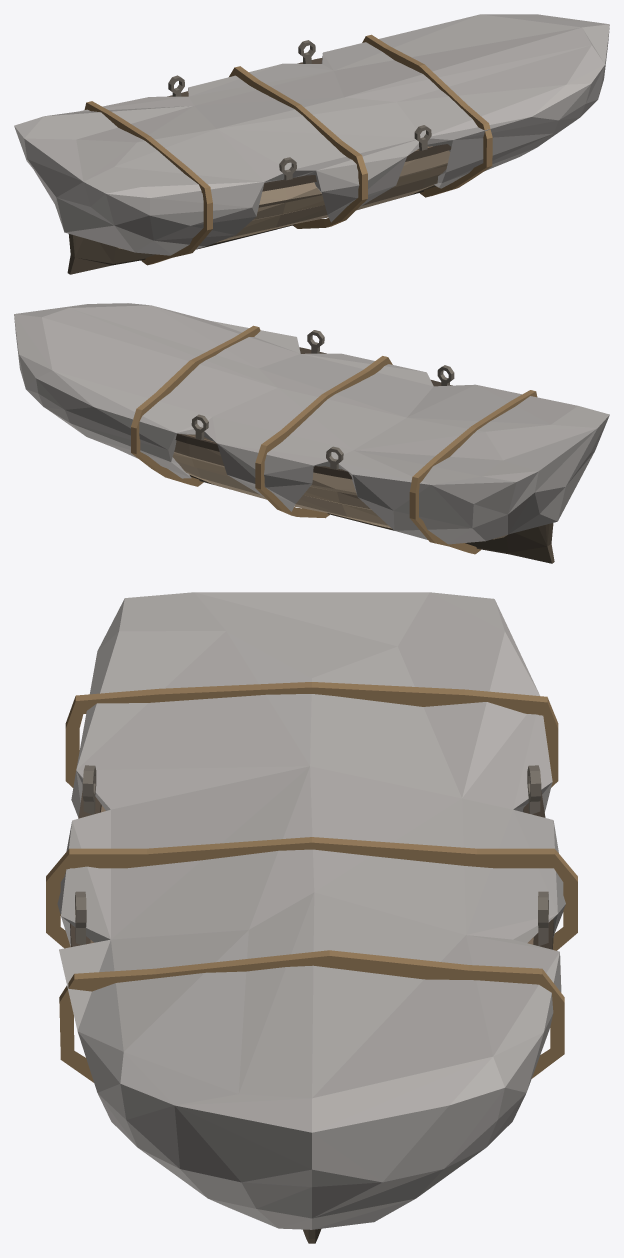
File: SM_Prop_Liferaft_01.glb
3 views of the same model, one above another, from view 1: azimuth 30°, elevation 25°; view 2: azimuth 150°, elevation 25°; view 3: azimuth 270°, elevation 25° (orthographic). The views are drawn at different scales.
Parts seen in each view (by area): view 1: SM_Prop_Liferaft_01_part00; view 2: SM_Prop_Liferaft_01_part00; view 3: SM_Prop_Liferaft_01_part00.
Part boxes in pixels (x1,y1,x2,y2): SM_Prop_Liferaft_01_part00: (14, 14, 609, 274); SM_Prop_Liferaft_01_part00: (14, 303, 609, 563); SM_Prop_Liferaft_01_part00: (46, 592, 577, 1243).
Bounding box in the file's own units: 5.21 × 1.16 × 2.17.
1 material, 1 textured.
